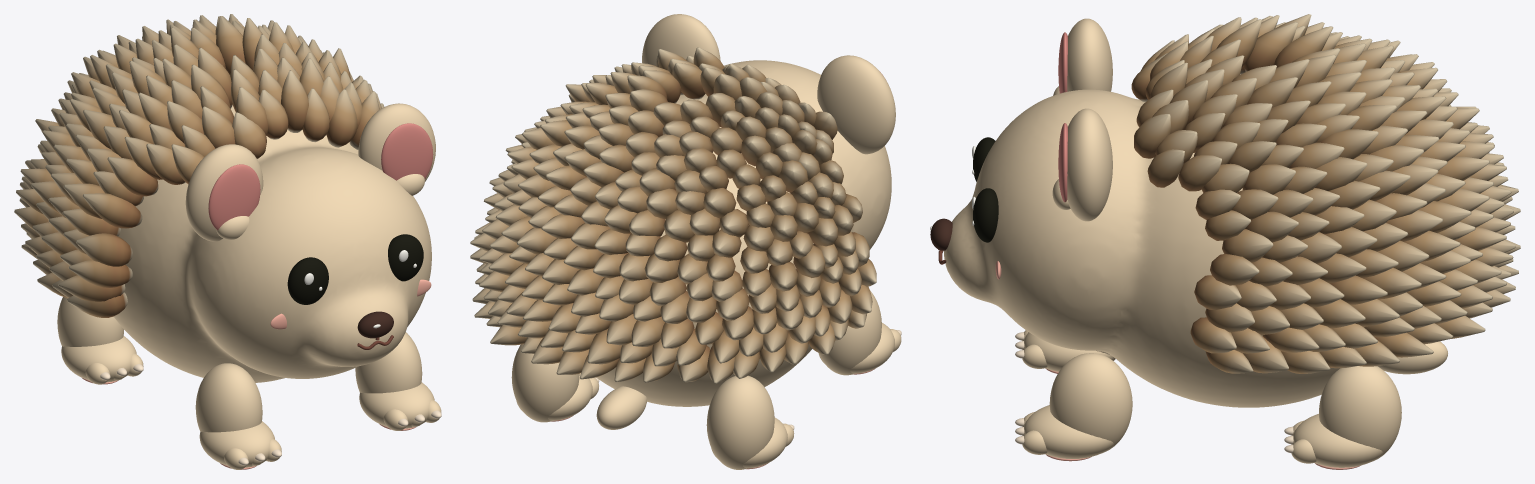
Rendered from hedgehog-stage-05.glb.
3 renders of one model, left to right at view 1: azimuth 30°, elevation 25°; view 2: azimuth 150°, elevation 25°; view 3: azimuth 270°, elevation 25°, orthographic. The views are drawn at different scales.
Visible parts, largest first — view 1: S05 • 275 individually formed rounded quills, S05 • seamless sculpted body and face, S05 • L front leg, S05 • L ear • outer rim, S05 • R front leg, S05 • L ear • recessed inner bowl, S05 • R ear • recessed inner bowl, S05 • R ear • outer rim, S05 • L rear leg, S05 • R front paw, S05 • L front paw, S05 • L rear paw (+4 smaller); view 2: S05 • 275 individually formed rounded quills, S05 • seamless sculpted body and face, S05 • L ear • outer rim, S05 • L rear leg, S05 • R rear leg, S05 • R ear • outer rim, S05 • L front leg, S05 • small tail, S05 • L rear paw, S05 • L front paw, S05 • R rear paw; view 3: S05 • 275 individually formed rounded quills, S05 • seamless sculpted body and face, S05 • R front leg, S05 • R rear leg, S05 • R ear • outer rim, S05 • L ear • outer rim, S05 • R rear paw, S05 • R front paw, S05 • R glossy eye, S05 • small tail, S05 • L front paw, S05 • R ear • recessed inner bowl.
Part boxes in pixels (bbox=[...]): S05 • 275 individually formed rounded quills: bbox=[14, 14, 384, 317]; S05 • seamless sculpted body and face: bbox=[113, 105, 431, 382]; S05 • L front leg: bbox=[195, 363, 262, 432]; S05 • L ear • outer rim: bbox=[185, 144, 263, 241]; S05 • R front leg: bbox=[355, 332, 422, 393]; S05 • L ear • recessed inner bowl: bbox=[208, 164, 260, 230]; S05 • R ear • recessed inner bowl: bbox=[381, 123, 433, 180]; S05 • R ear • outer rim: bbox=[358, 103, 435, 181]; S05 • L rear leg: bbox=[57, 297, 124, 346]; S05 • R front paw: bbox=[359, 382, 434, 428]; S05 • L front paw: bbox=[199, 421, 274, 467]; S05 • L rear paw: bbox=[61, 336, 136, 382]; S05 • 275 individually formed rounded quills: bbox=[470, 47, 876, 383]; S05 • seamless sculpted body and face: bbox=[596, 60, 891, 406]; S05 • L ear • outer rim: bbox=[817, 55, 895, 154]; S05 • L rear leg: bbox=[706, 375, 774, 469]; S05 • R rear leg: bbox=[511, 344, 579, 422]; S05 • R ear • outer rim: bbox=[642, 14, 720, 65]; S05 • L front leg: bbox=[818, 290, 881, 375]; S05 • small tail: bbox=[596, 386, 646, 429]; S05 • L rear paw: bbox=[711, 417, 787, 468]; S05 • L front paw: bbox=[819, 323, 894, 373]; S05 • R rear paw: bbox=[516, 373, 592, 420]; S05 • 275 individually formed rounded quills: bbox=[1131, 14, 1520, 373]; S05 • seamless sculpted body and face: bbox=[944, 74, 1339, 407]; S05 • R front leg: bbox=[1049, 353, 1132, 453]; S05 • R rear leg: bbox=[1319, 366, 1401, 461]; S05 • R ear • outer rim: bbox=[1067, 108, 1112, 221]; S05 • L ear • outer rim: bbox=[1067, 18, 1112, 91]; S05 • R rear paw: bbox=[1293, 414, 1383, 467]; S05 • R front paw: bbox=[1024, 405, 1113, 458]; S05 • R glossy eye: bbox=[973, 188, 998, 242]; S05 • small tail: bbox=[1378, 341, 1447, 374]; S05 • L front paw: bbox=[1024, 332, 1114, 371]; S05 • R ear • recessed inner bowl: bbox=[1058, 123, 1067, 202].
Size of the model in its own units: 1.59 by 1.48 by 2.1.
